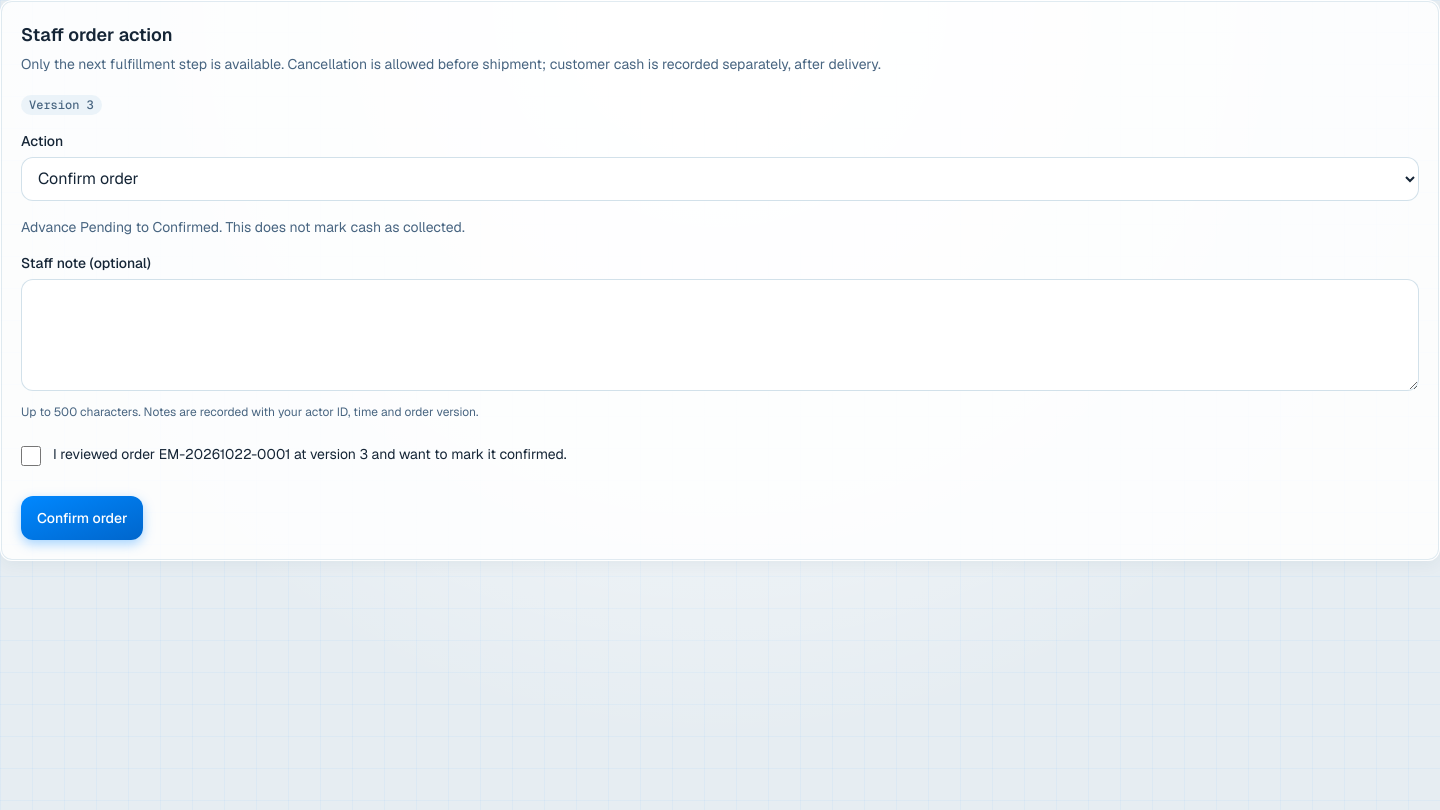
Test: staff order actions and snapshots › requires fresh confirmation when the chosen order action changes
This screenshot has width=1440, height=810.
Click the checkbox labelled "I reviewed order": (31, 456) top-left (21, 446), bottom-right (41, 466)
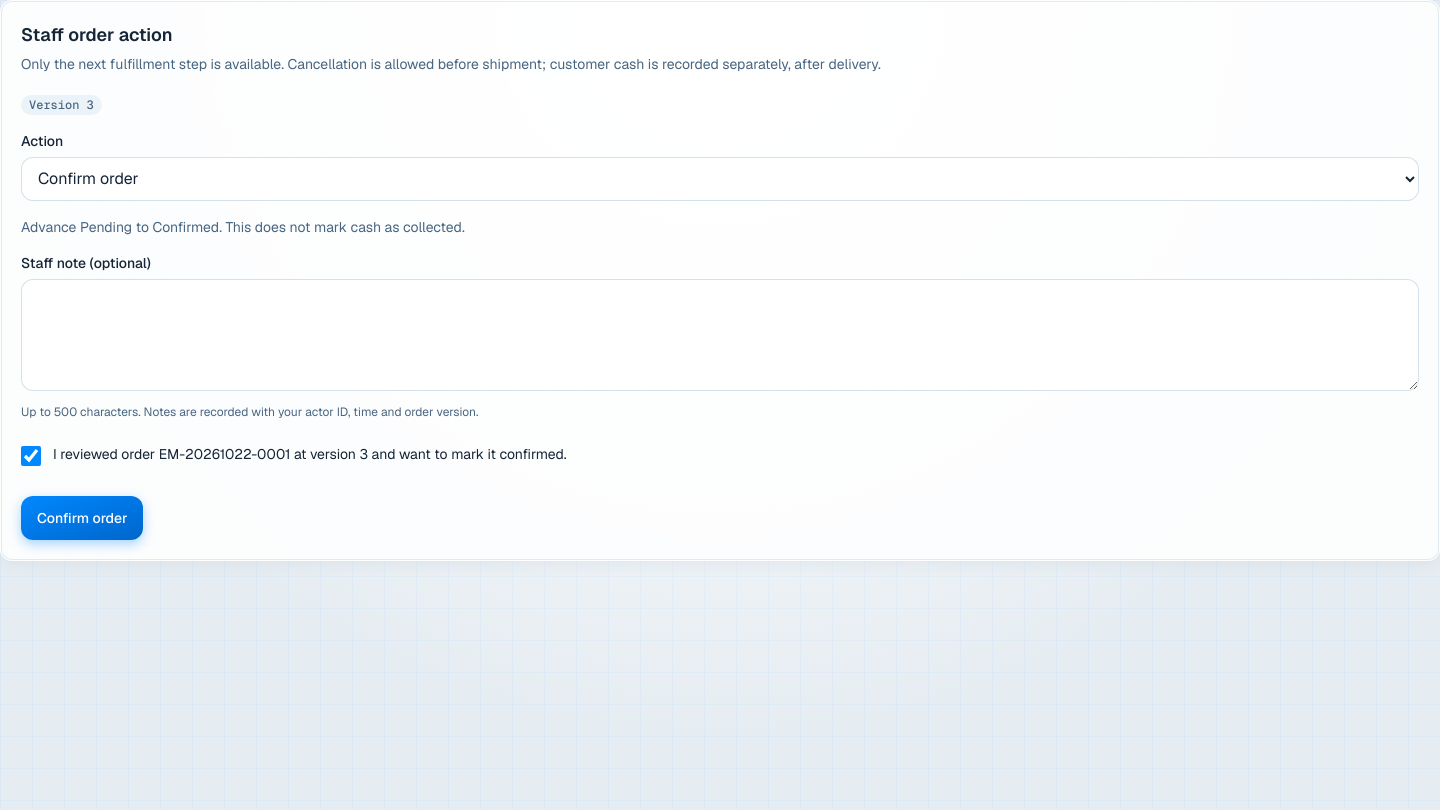
Select "Cancel before shipment" in the dropdown labelled "Action": (720, 179) top-left (21, 157), bottom-right (1419, 201)
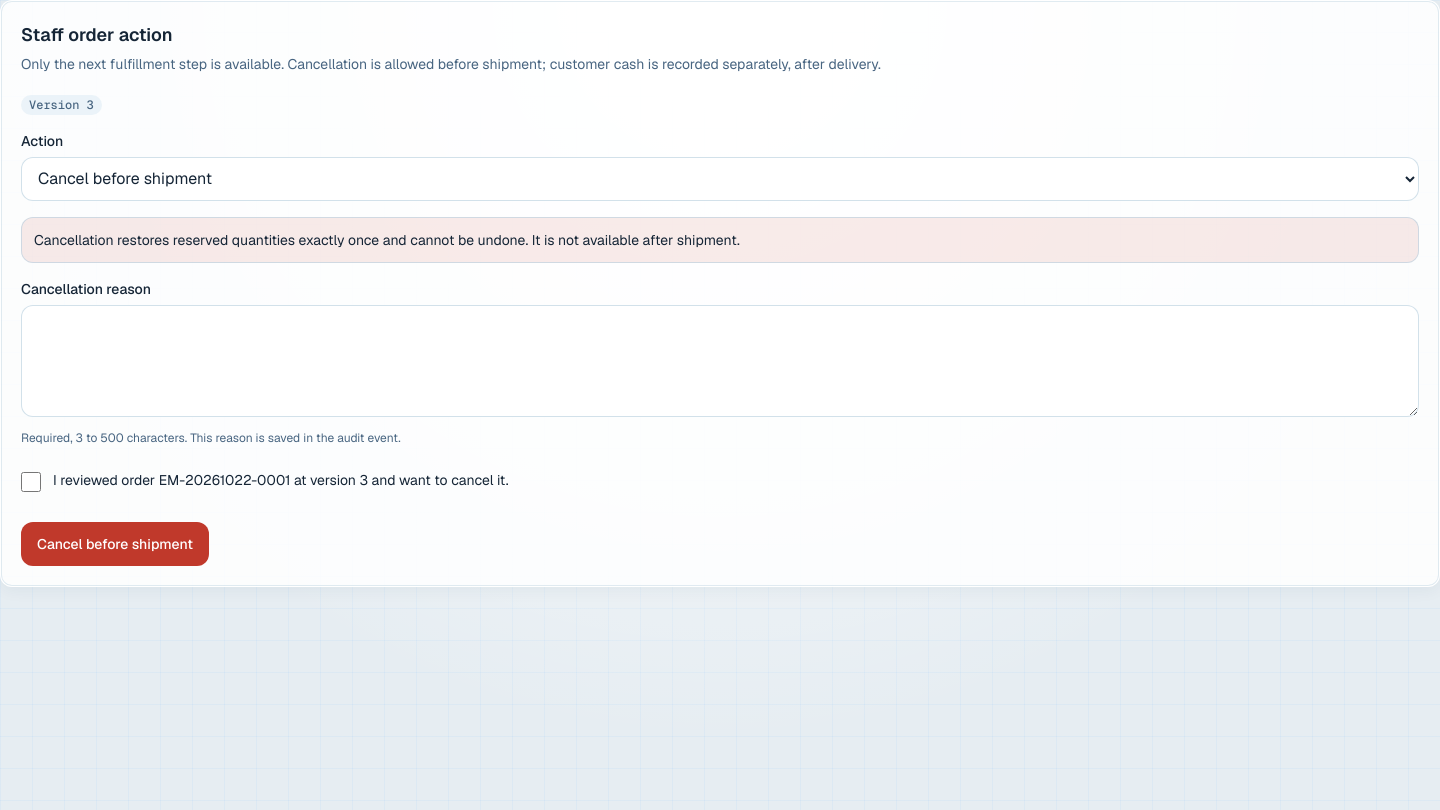
Result: the checkbox labelled "I reviewed order" is not checked at top-left (21, 472), bottom-right (41, 492)
